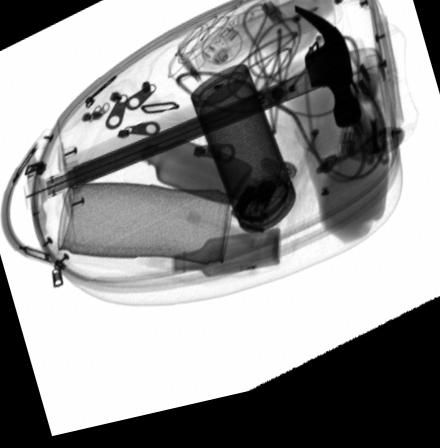Hammer: (72, 18, 363, 191)
